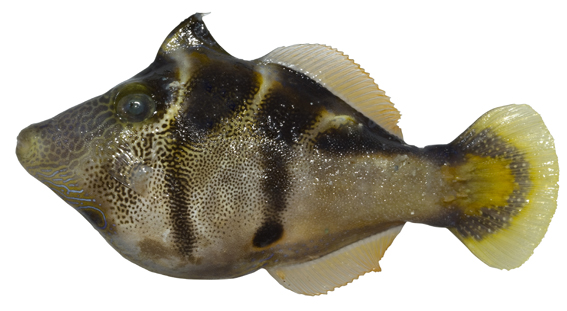fish: (14, 12, 559, 296)
